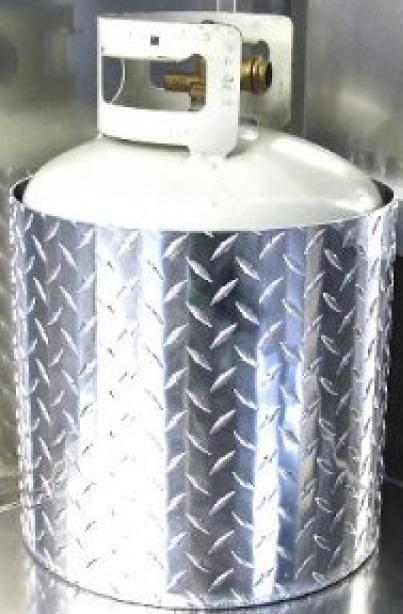cylinder: (1, 1, 403, 614)
